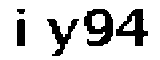4: (116, 6, 151, 49)
9: (82, 6, 114, 48)
i: (12, 5, 34, 52)
y: (43, 17, 81, 59)
